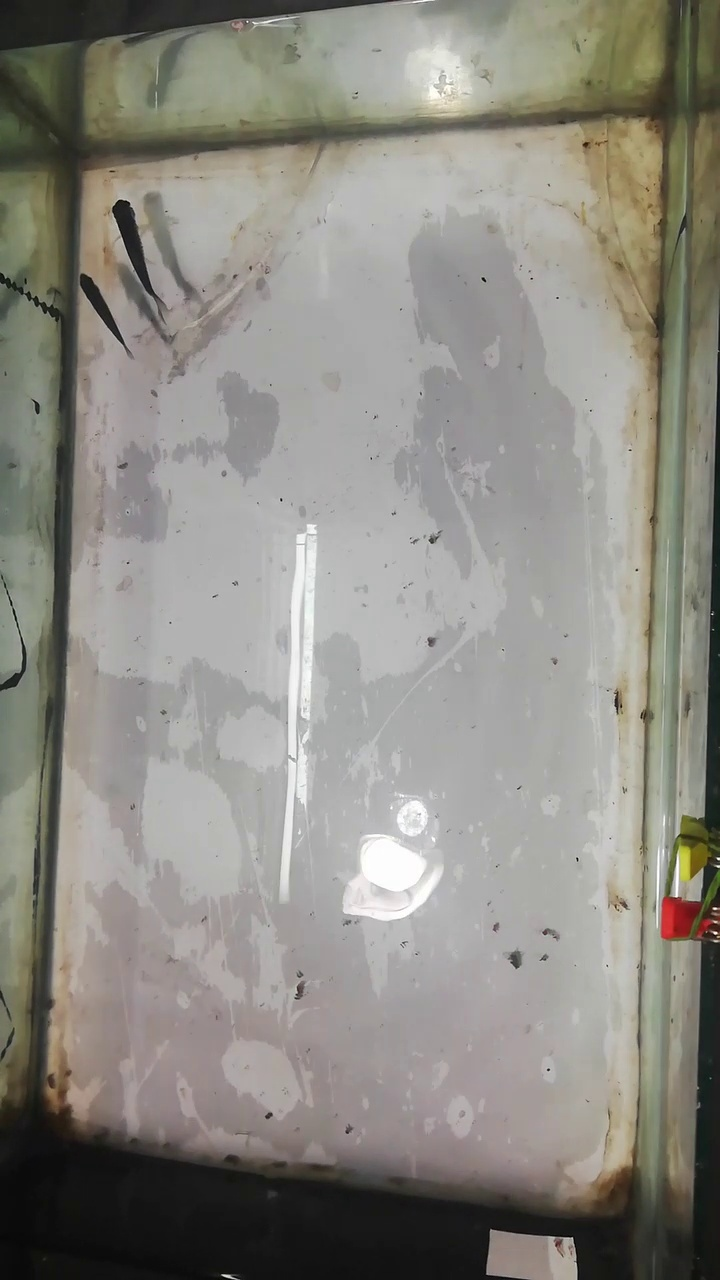fish1: (111, 196, 165, 306)
fish2: (79, 275, 129, 352)
